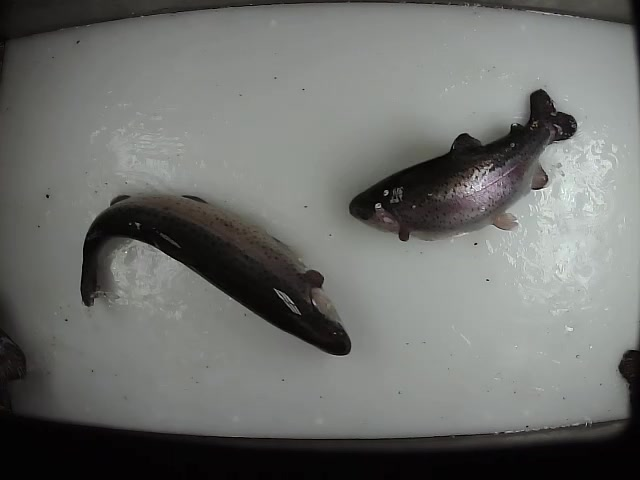fish: (78, 190, 354, 358), (345, 87, 580, 246)
